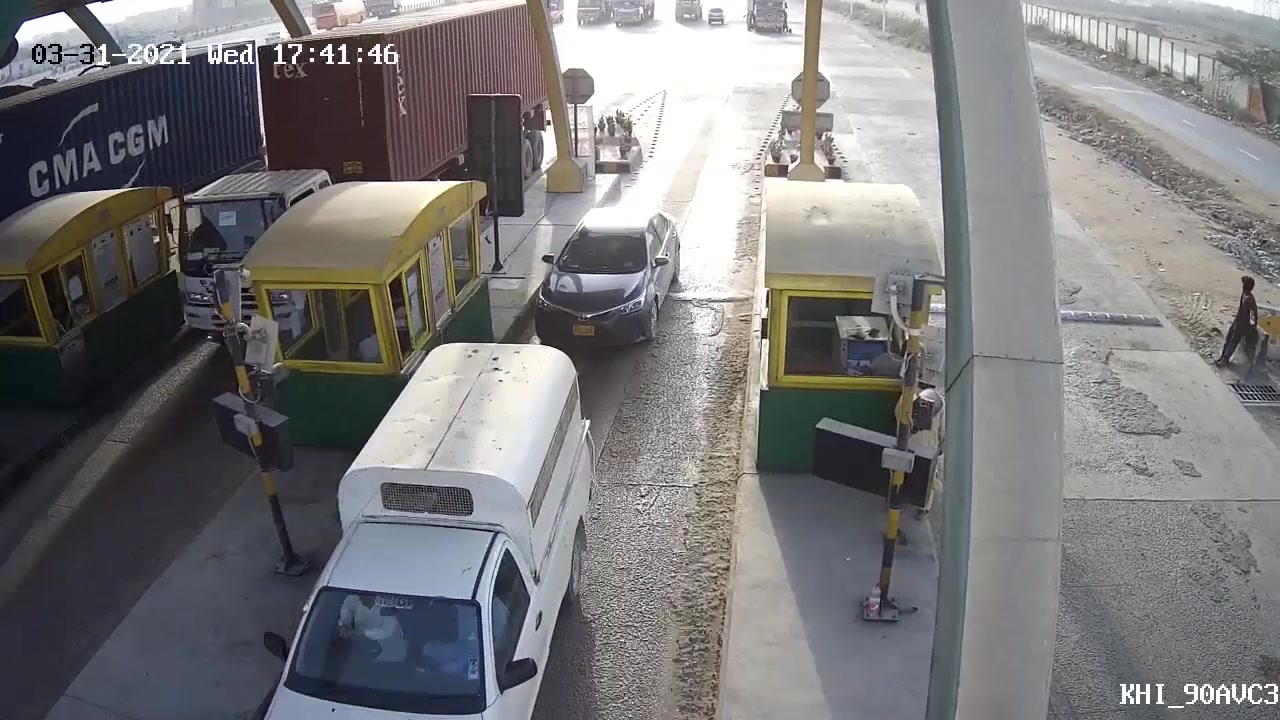F1: (533, 205, 684, 356)
